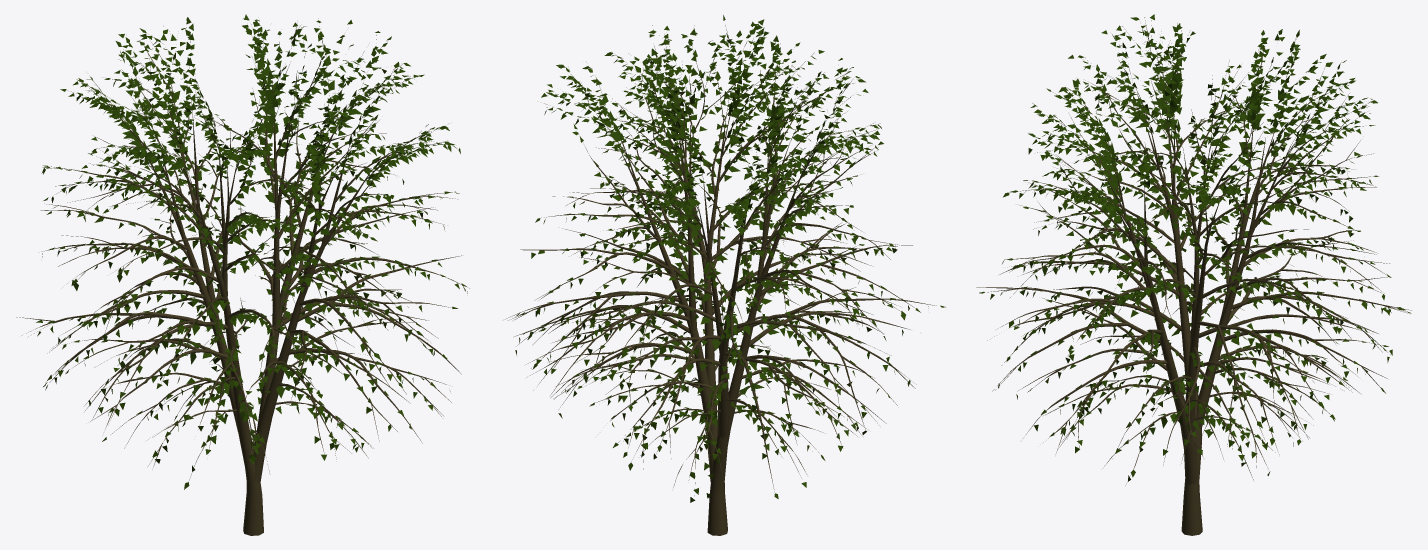
Rendered from tree-v2-min.glb.
3 renders of one model, left to right at view 1: azimuth 30°, elevation 25°; view 2: azimuth 150°, elevation 25°; view 3: azimuth 270°, elevation 25°, orthographic.
Bounding box in the file's own units: 8.99 × 11.29 × 9.25.
2 materials, 2 textured.
